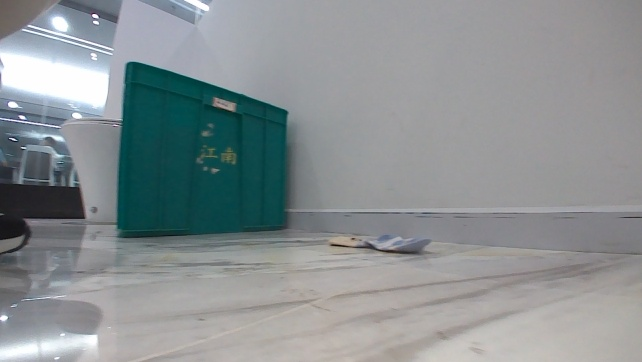socks: (326, 230, 432, 254)
toilet: (54, 114, 124, 224)
